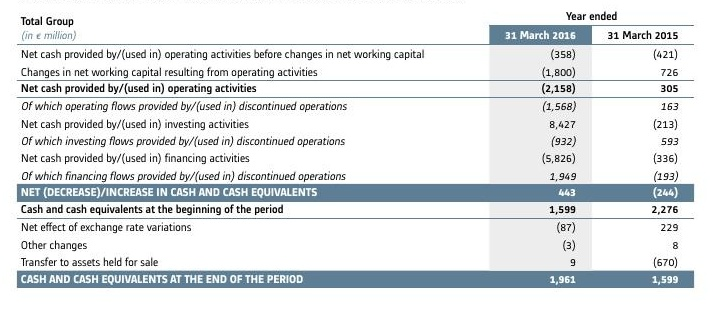table: (0, 0, 713, 309)
